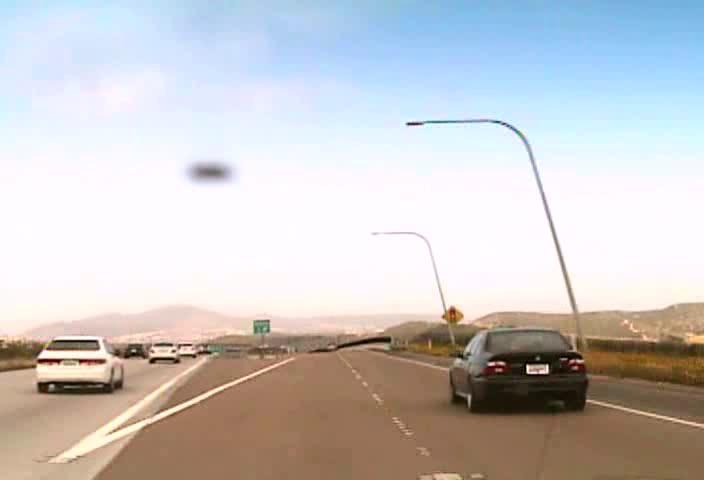signalAhead: (440, 304, 465, 327)
